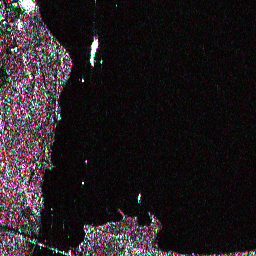ship: (87, 36, 101, 68), (135, 192, 144, 203)
